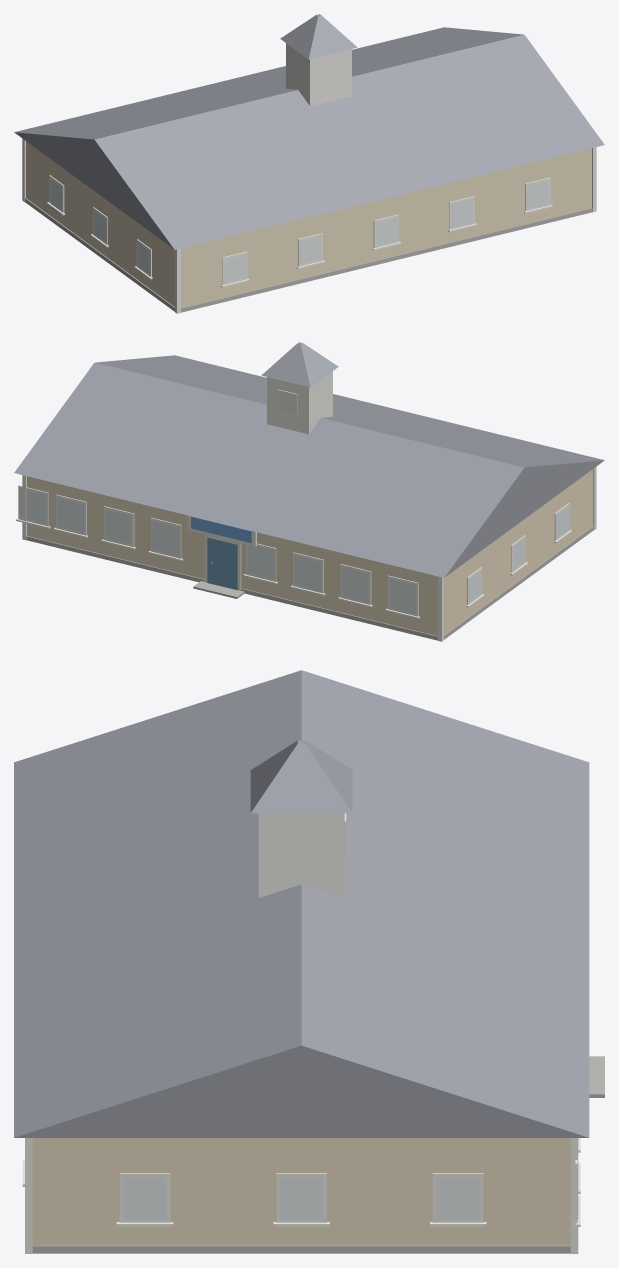
Rendered from school_a.glb.
3 renders of one model, top to bottom at view 1: azimuth 30°, elevation 25°; view 2: azimuth 150°, elevation 25°; view 3: azimuth 270°, elevation 25°, orthographic. The views are drawn at different scales.
Parts seen in each view (by area): view 1: roof, body; view 2: roof, body; view 3: roof, body.
Boxes of the visible parts, <box> form: roof: <box>14,14,604,249</box>; body: <box>22,138,596,313</box>; roof: <box>14,342,604,577</box>; body: <box>16,466,596,641</box>; roof: <box>14,670,589,1137</box>; body: <box>22,1056,604,1253</box>.
Size of the model in its own units: 22.73 by 9.5 by 15.1.
